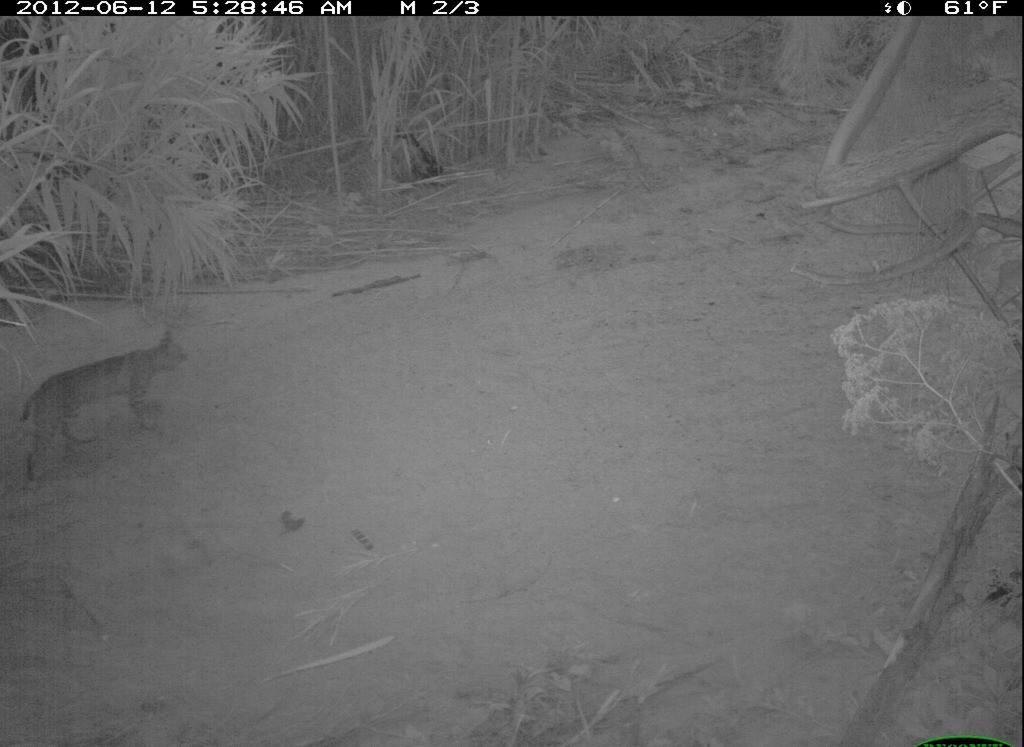bobcat: (4, 319, 217, 498)
